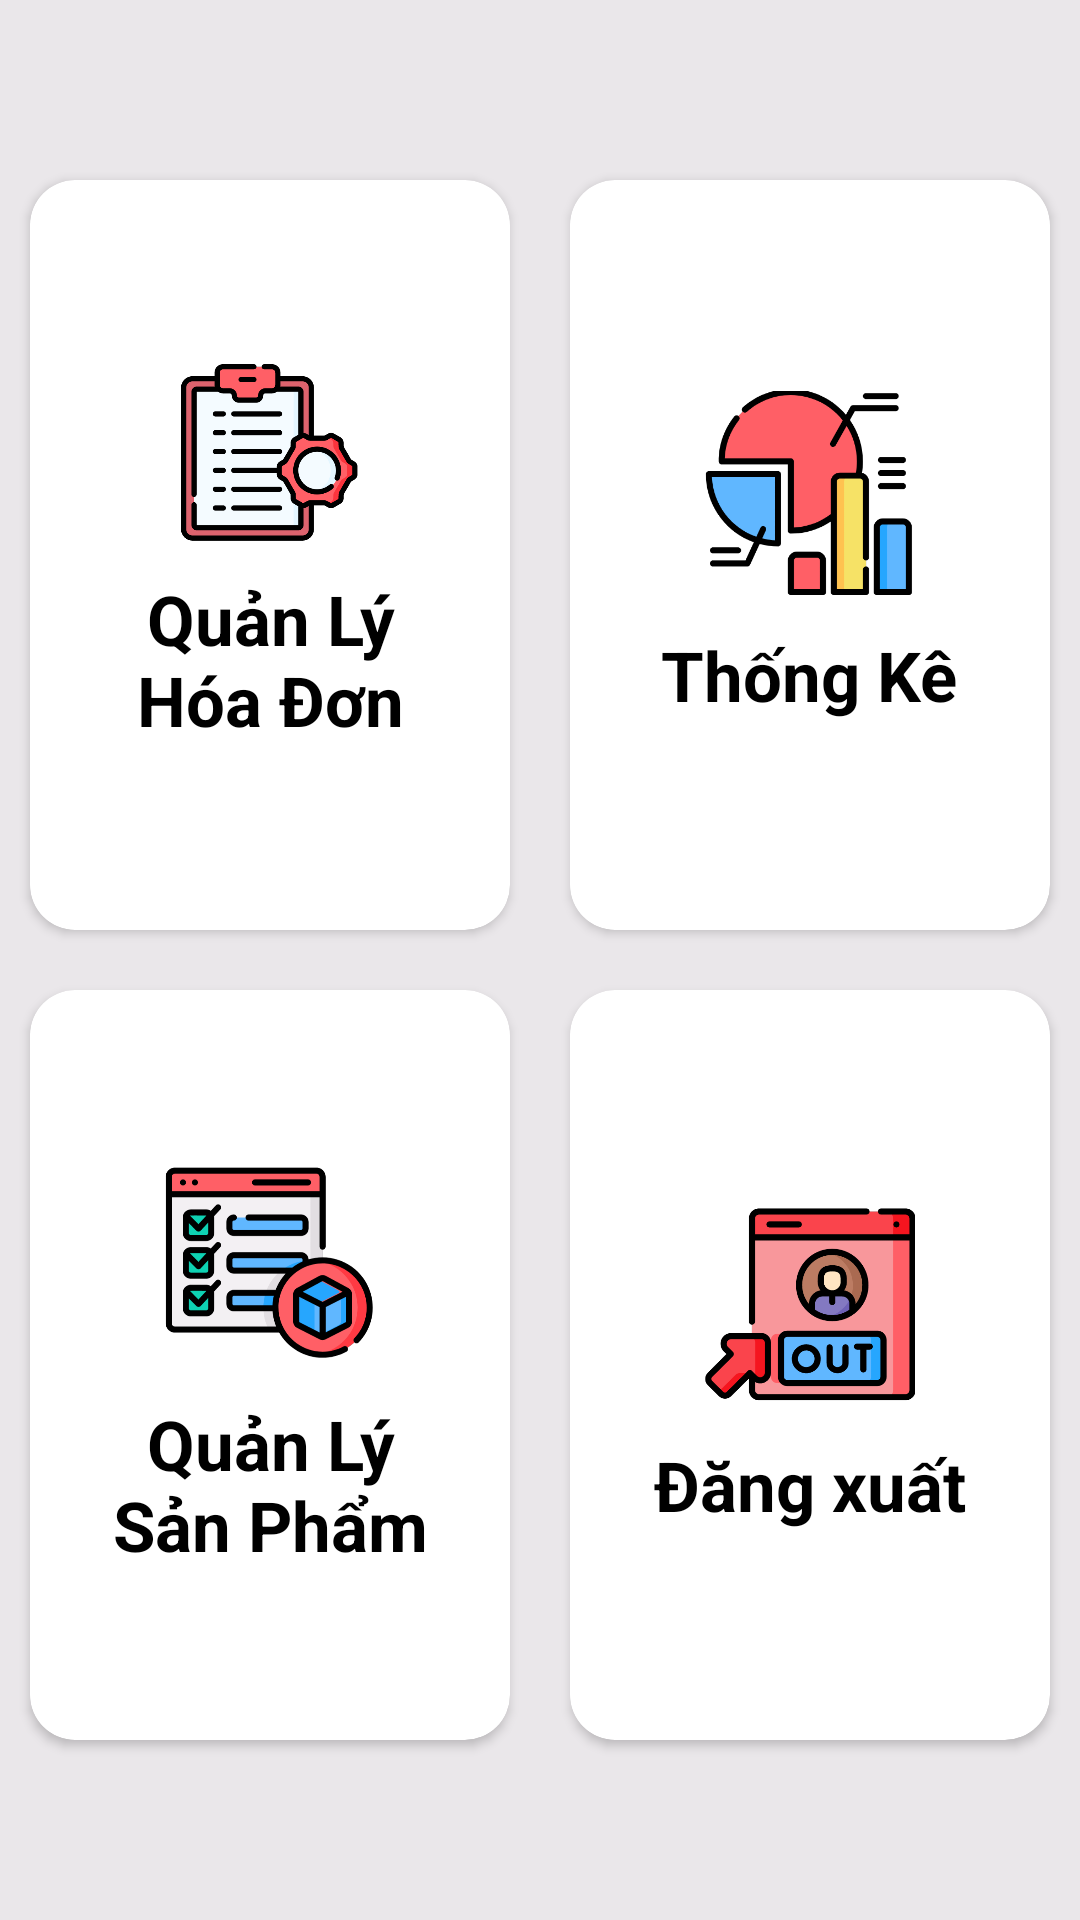

Where to tap for icons on this 1080px×1920px app screen, as (x,y):
chart: (809,493)
order: (269,452)
product: (269,1262)
